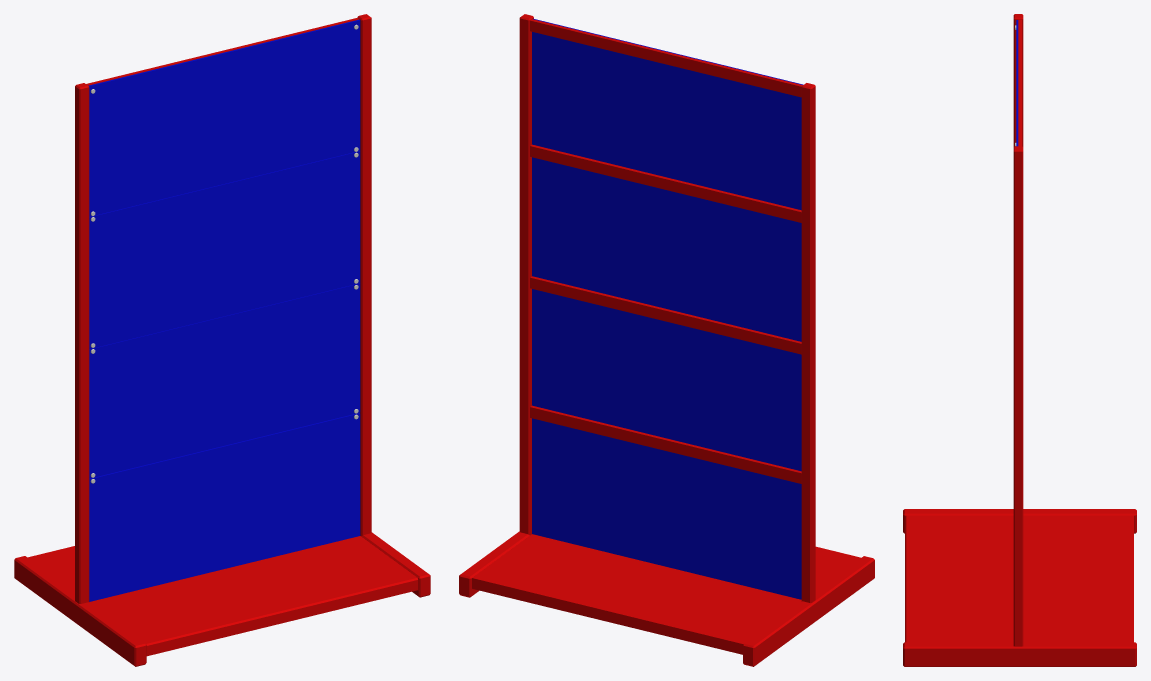
Rendered from tool_stand.fbx.
3 renders of one model, left to right at view 1: azimuth 30°, elevation 25°; view 2: azimuth 150°, elevation 25°; view 3: azimuth 270°, elevation 25°, orthographic. The views are drawn at different scales.
Parts seen in each view (by area): view 1: Object001; view 2: Object001; view 3: Object001.
Boxes of the visible parts, left/top/right/bottom form: Object001: left=14, top=14, right=430, bottom=666; Object001: left=459, top=14, right=874, bottom=666; Object001: left=903, top=14, right=1136, bottom=666.
Bounding box in the file's own units: 42.32 × 73.26 × 30.08.
